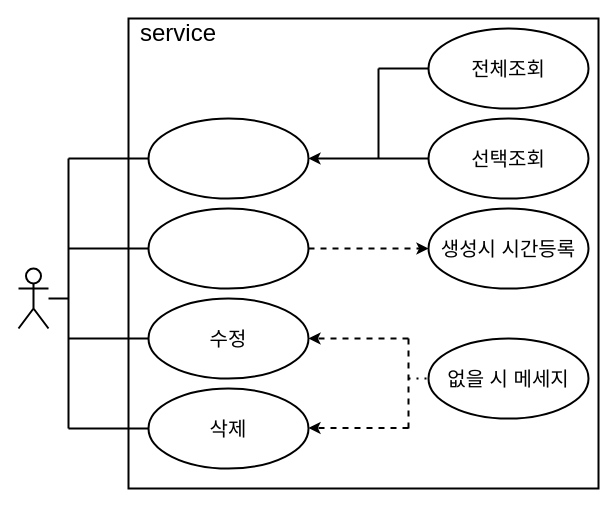
This 616x506 diagram has some shape labels left out. The centre of each missing label's shape, as x and y in pixels:
"Actor" goes at point 33,298.
"생성" goes at point 228,248.
"조회" goes at point 228,158.
